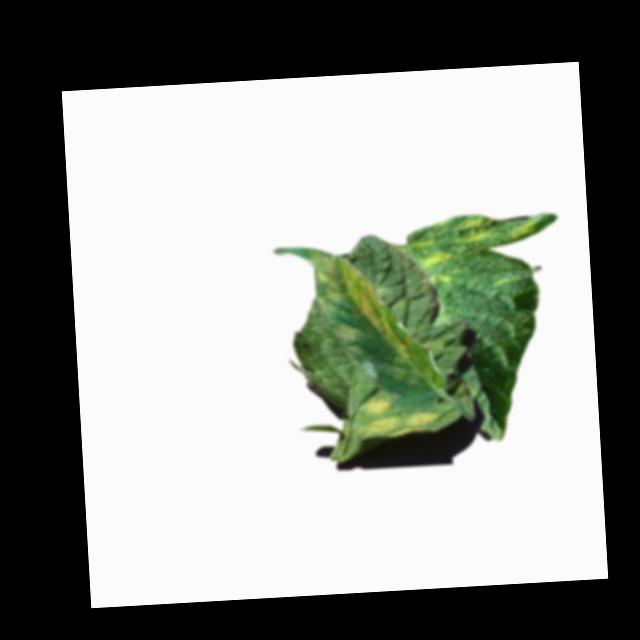Leaf_Mold: (306, 249, 393, 338), (358, 389, 441, 440), (454, 213, 496, 247), (415, 250, 454, 285)
